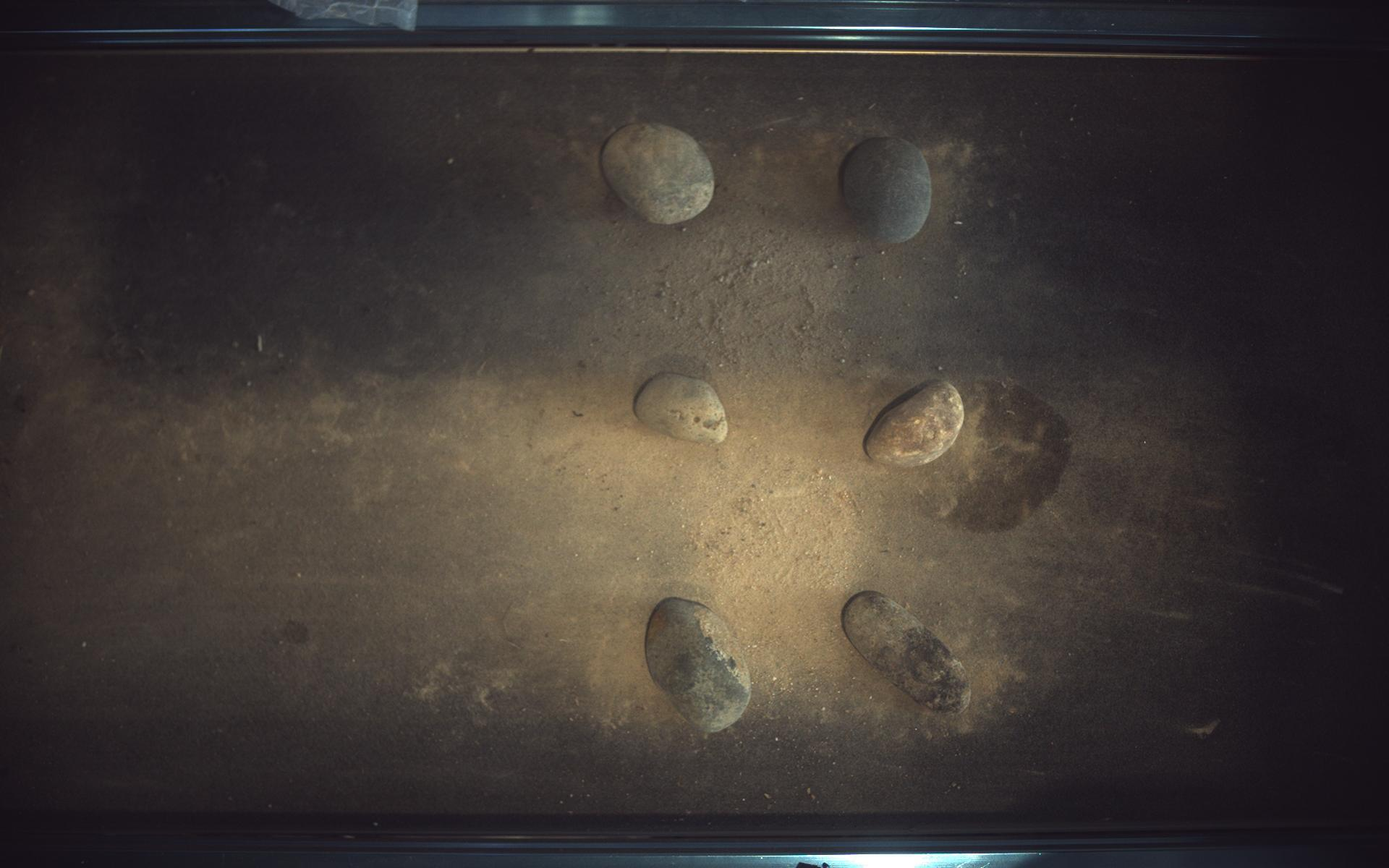stone: (844, 592, 972, 714), (646, 598, 752, 734), (601, 122, 715, 224), (843, 137, 933, 242), (866, 378, 967, 469), (635, 373, 729, 443)
